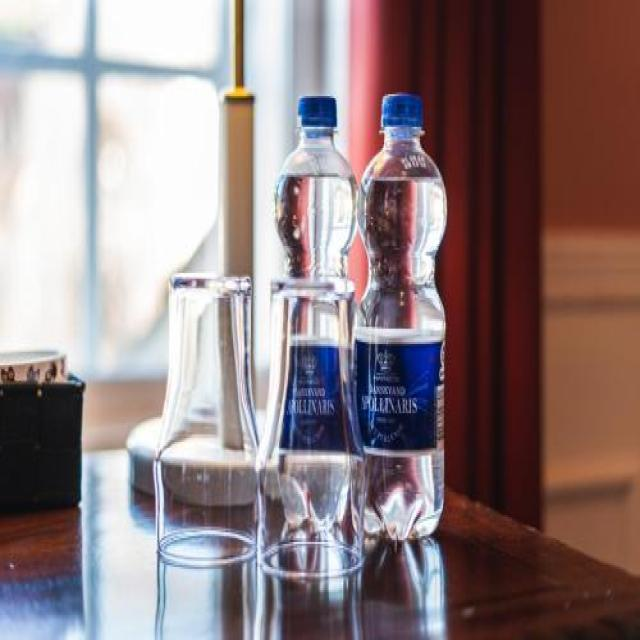bottle: (346, 77, 456, 557), (265, 83, 357, 538)
